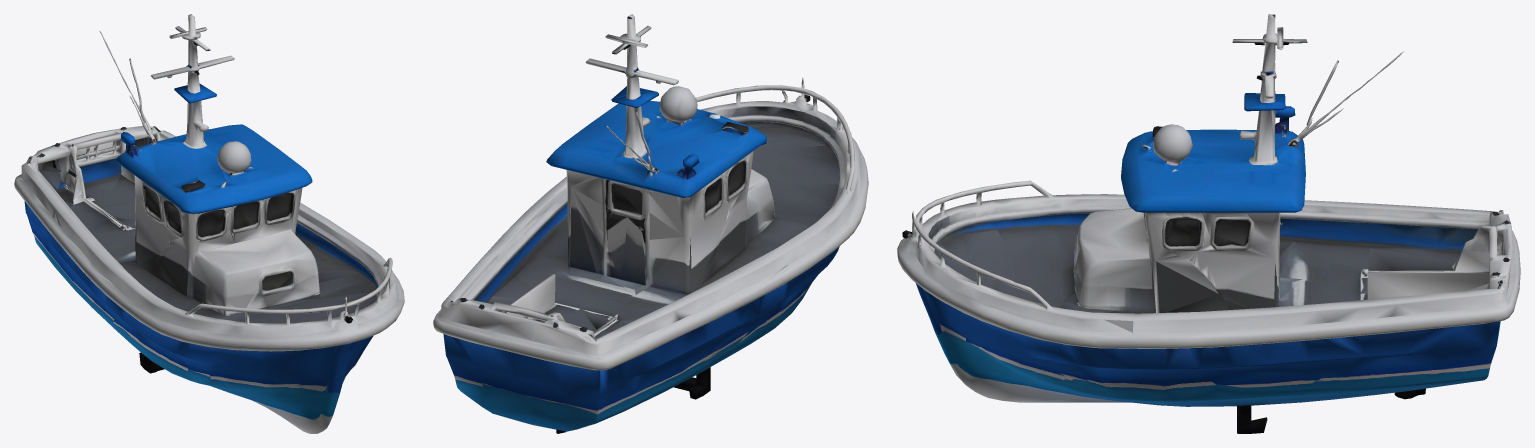
The model's file is barco.glb.
The picture shows the model from 3 angles, left to right: view 1: azimuth 30°, elevation 25°; view 2: azimuth 150°, elevation 25°; view 3: azimuth 270°, elevation 25°; orthographic projection. The views are drawn at different scales.
Parts seen in each view (by area): view 1: Prop_barco; view 2: Prop_barco; view 3: Prop_barco.
Boxes of the visible parts, x1=… form: Prop_barco: x1=14, y1=14, x2=404, y2=433; Prop_barco: x1=433, y1=14, x2=868, y2=433; Prop_barco: x1=897, y1=14, x2=1520, y2=433.
Bounding box in the file's own units: 3.11 × 4.2 × 6.12.
Materials: 1 (1 with a texture image).
